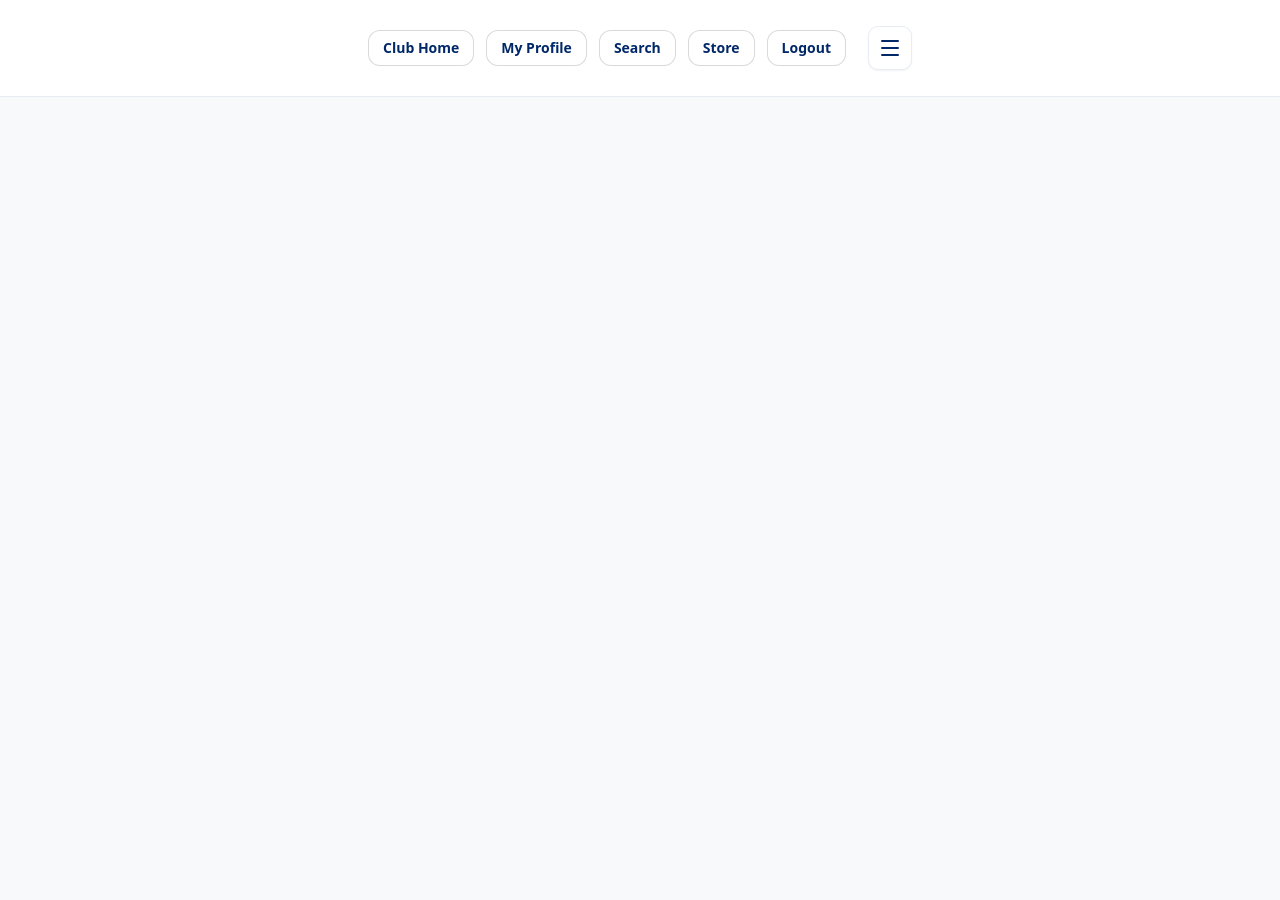
Test: FanClubHeader mobile navigation wiring › opens fanclub hamburger drawer with member navigation items
The image size is (1280, 900).
Click the button named "Open menu" at (890, 48), box [868,26,912,70]
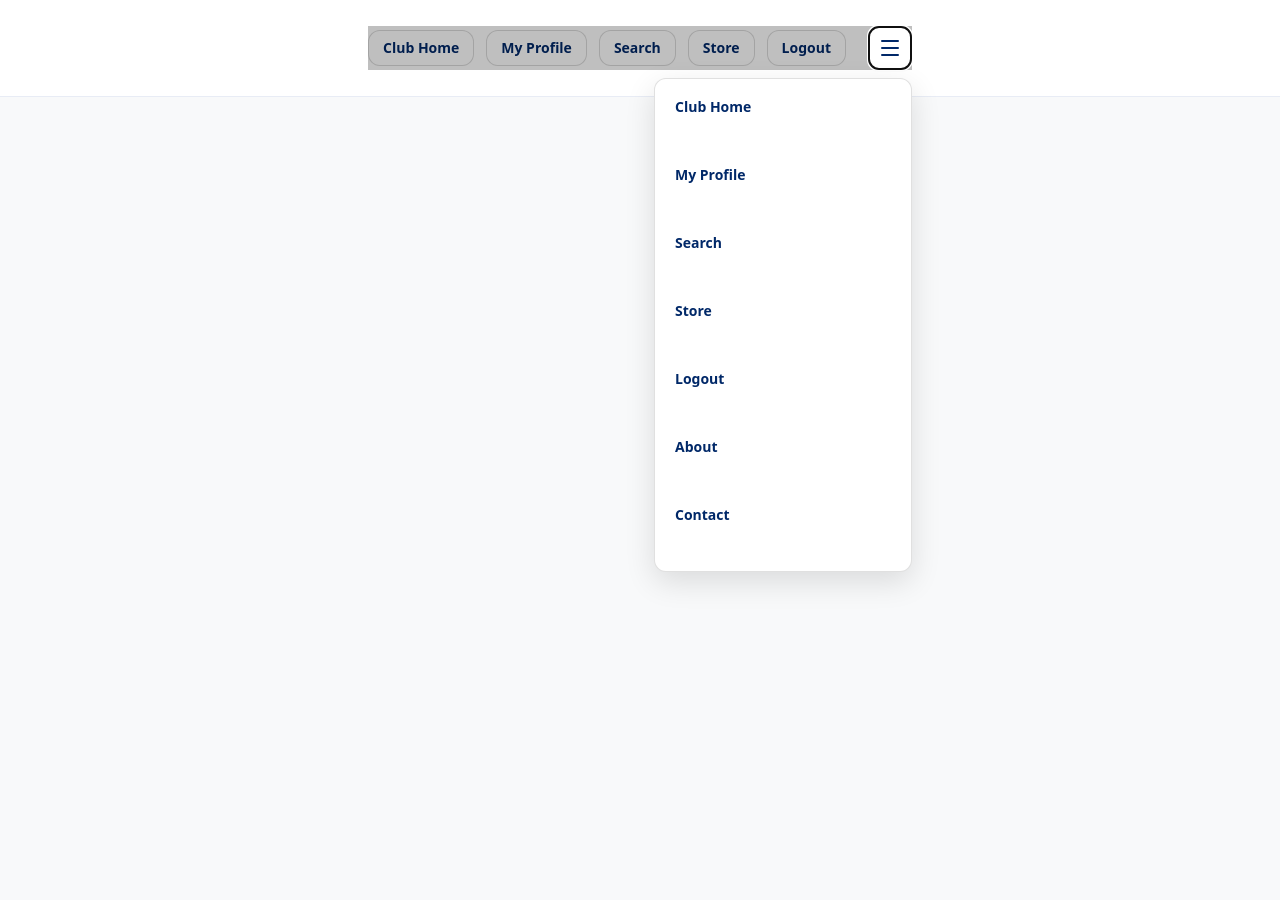
Expected: the 2nd link "My Profile" is shown, [675,165,746,184]
Expected: the 2nd link "Club Home" is shown, [675,97,751,116]
